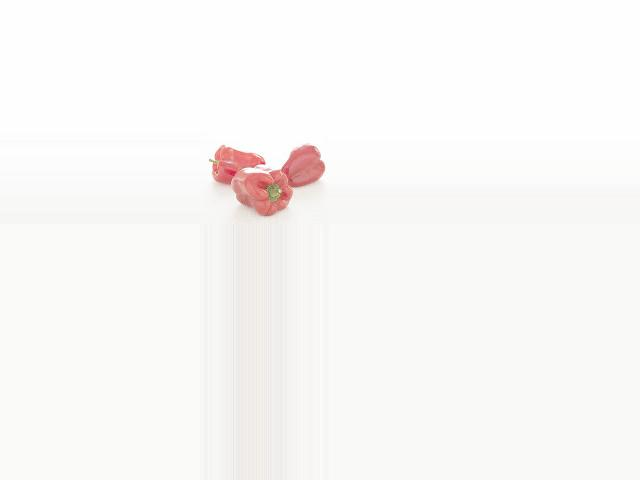bell_pepper: (283, 143, 327, 189)
